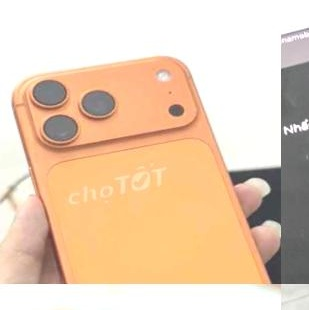physical_damage: (281, 6, 309, 66), (287, 0, 309, 17)
